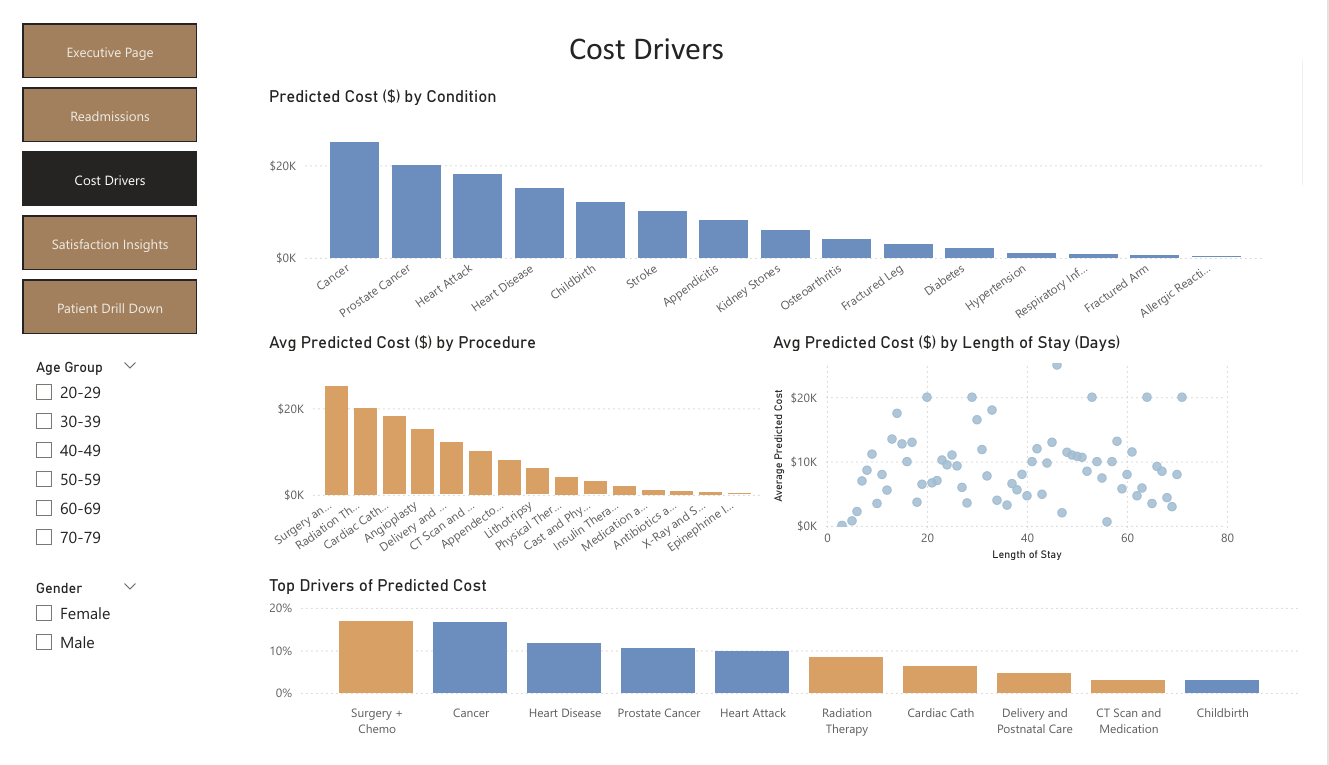

This screenshot's page, from the dashboard's own definition file:
{"tool":"powerbi","page":{"name":"Cost Drivers","canvas":[1280,720],"ordinal":2},"visuals":[{"type":"clusteredColumnChart","title":"Predicted Cost ($) by Condition","fields":{"Y":["Predictions.Avg Predicted Cost"],"Category":["phase1_cleaned.condition"]},"box":[241,62,1007,246],"z":0},{"type":"clusteredColumnChart","title":"Avg Predicted Cost ($) by Procedure","fields":{"Y":["Predictions.Avg Predicted Cost"],"Category":["phase1_cleaned.procedure"]},"box":[241,308,504,233],"z":1000},{"type":"scatterChart","fields":{"Y":["Predictions.Avg Predicted Cost"],"X":["phase1_cleaned.length_of_stay"]},"box":[745,308,471,233],"z":2000},{"type":"clusteredColumnChart","title":"Top Drivers of Predicted Cost","fields":{"Y":["Avg(Cost Importance.importance)"],"Category":["Cost Importance.Clean Feature"]},"box":[241,551,1039,169],"z":3000},{"type":"textbox","box":[47,0,1153,51],"z":4000},{"type":"pageNavigator","box":[0,0,173.8,313],"z":5000},{"type":"slicer","fields":{"Values":["phase1_cleaned.age_group"]},"box":[0,330,126,211],"z":6000},{"type":"slicer","fields":{"Values":["phase1_cleaned.gender"]},"box":[0,551,126,93],"z":7000}]}

Visuals, with their boxes in screenshot pixels (x1, y1, x2, y2), scaled from the page's 1280x720 canvas onto the 1329x765 screenshot:
"Predicted Cost ($) by Condition" clusteredColumnChart: Rect(250, 66, 1296, 327)
"Avg Predicted Cost ($) by Procedure" clusteredColumnChart: Rect(250, 327, 774, 575)
scatterChart - Predictions.Avg Predicted Cost x phase1_cleaned.length_of_stay: Rect(774, 327, 1263, 575)
"Top Drivers of Predicted Cost" clusteredColumnChart: Rect(250, 585, 1328, 764)
textbox: Rect(49, 0, 1246, 54)
pageNavigator: Rect(0, 0, 180, 333)
slicer - phase1_cleaned.age_group: Rect(0, 351, 131, 575)
slicer - phase1_cleaned.gender: Rect(0, 585, 131, 684)
